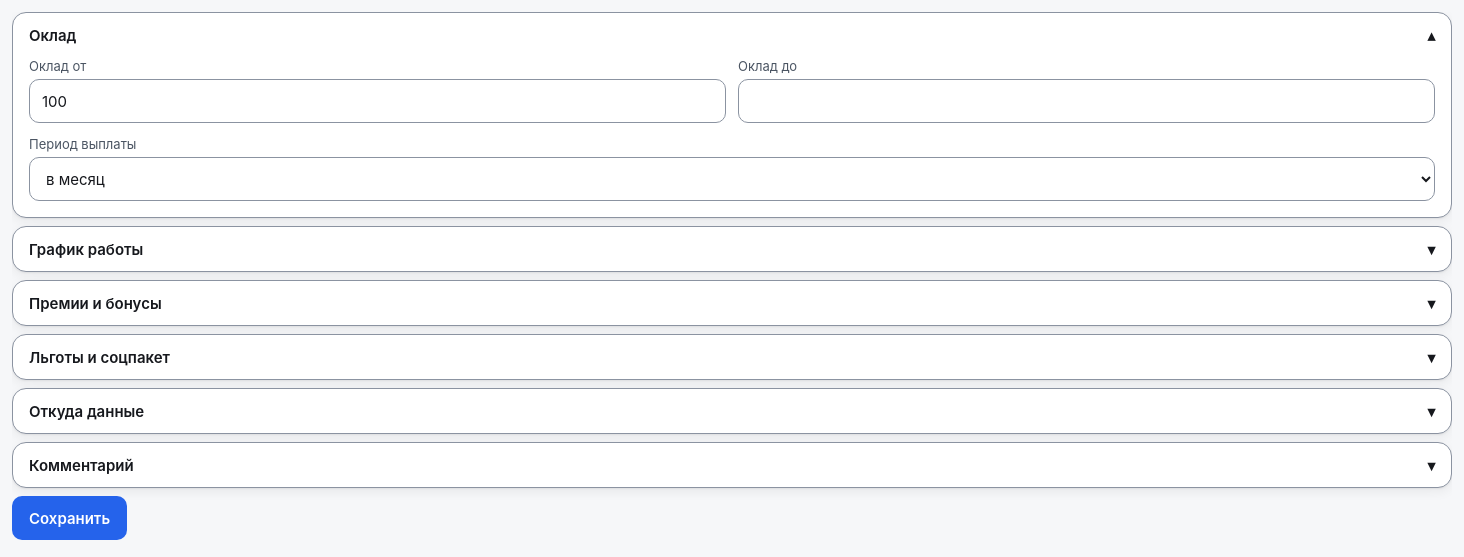
Scenario: сохранение блокируется ошибкой и раскрывает нужный блок
Click the button "Сохранить" at (70, 518), box [12,496,127,540]
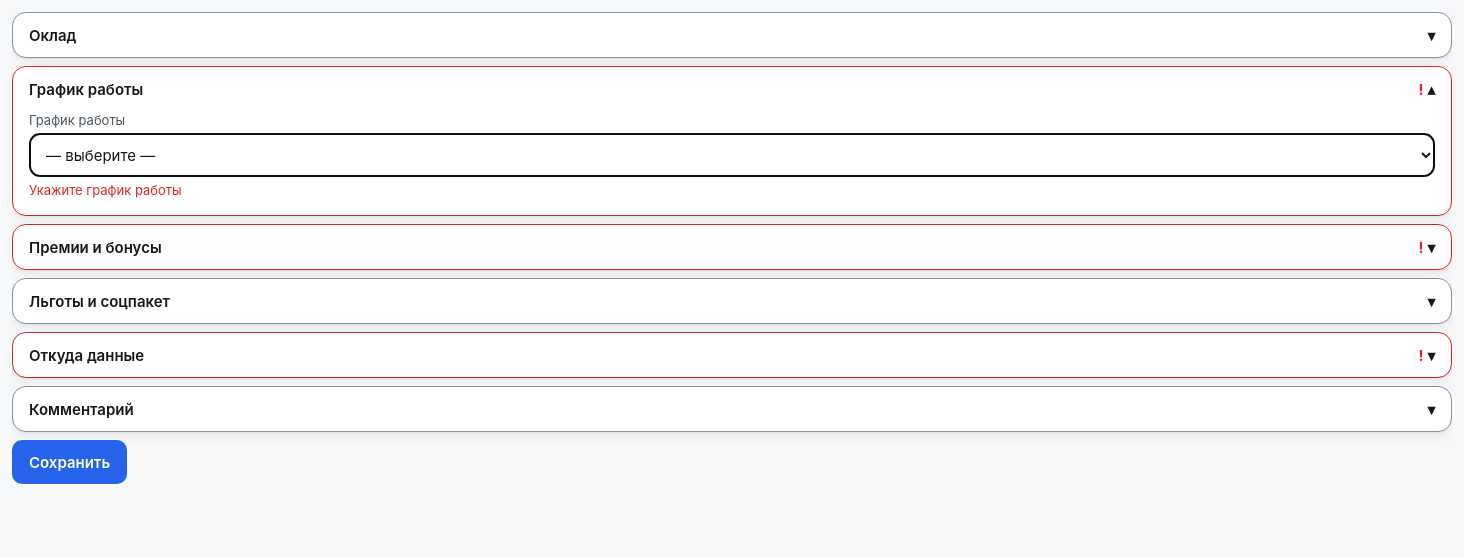
Check: the text "Укажите график работы" is shown, box [29,182,182,198]
